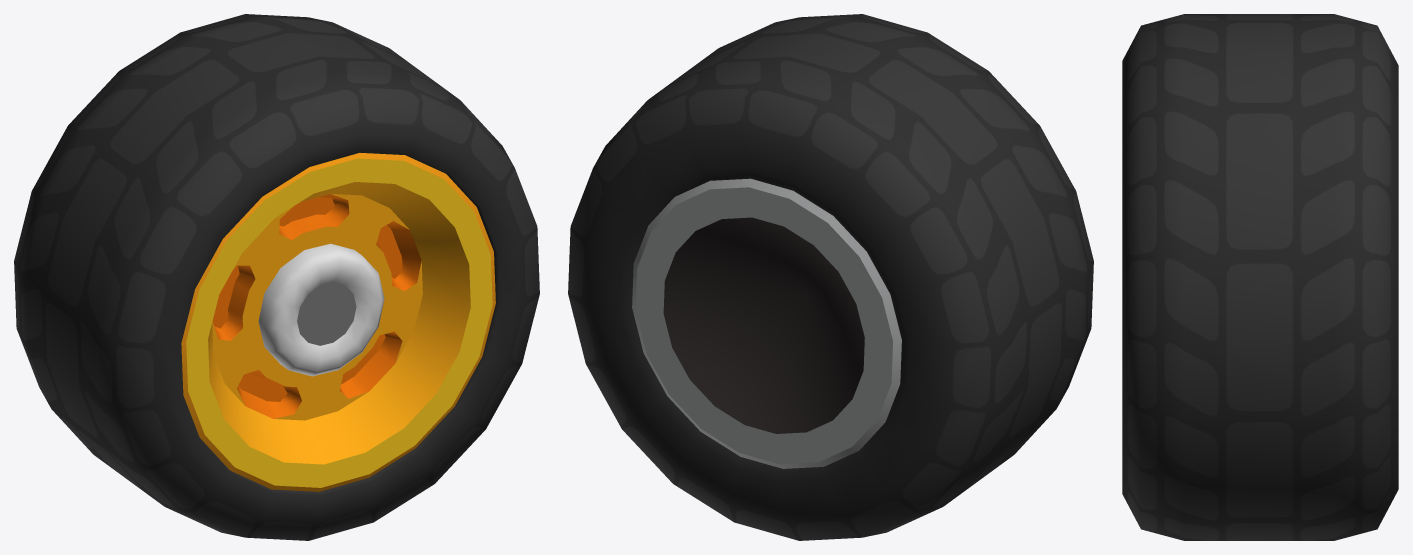
Rendered from Wheel_12.fbx.
3 renders of one model, left to right at view 1: azimuth 30°, elevation 25°; view 2: azimuth 150°, elevation 25°; view 3: azimuth 270°, elevation 25°, orthographic. The views are drawn at different scales.
Parts seen in each view (by area): view 1: Wheel_12; view 2: Wheel_12; view 3: Wheel_12.
Part boxes in pixels (bbox=[...]): Wheel_12: bbox=[14, 14, 539, 540]; Wheel_12: bbox=[568, 14, 1093, 540]; Wheel_12: bbox=[1122, 14, 1398, 540].
Size of the model in its own units: 95 by 50 by 95.
